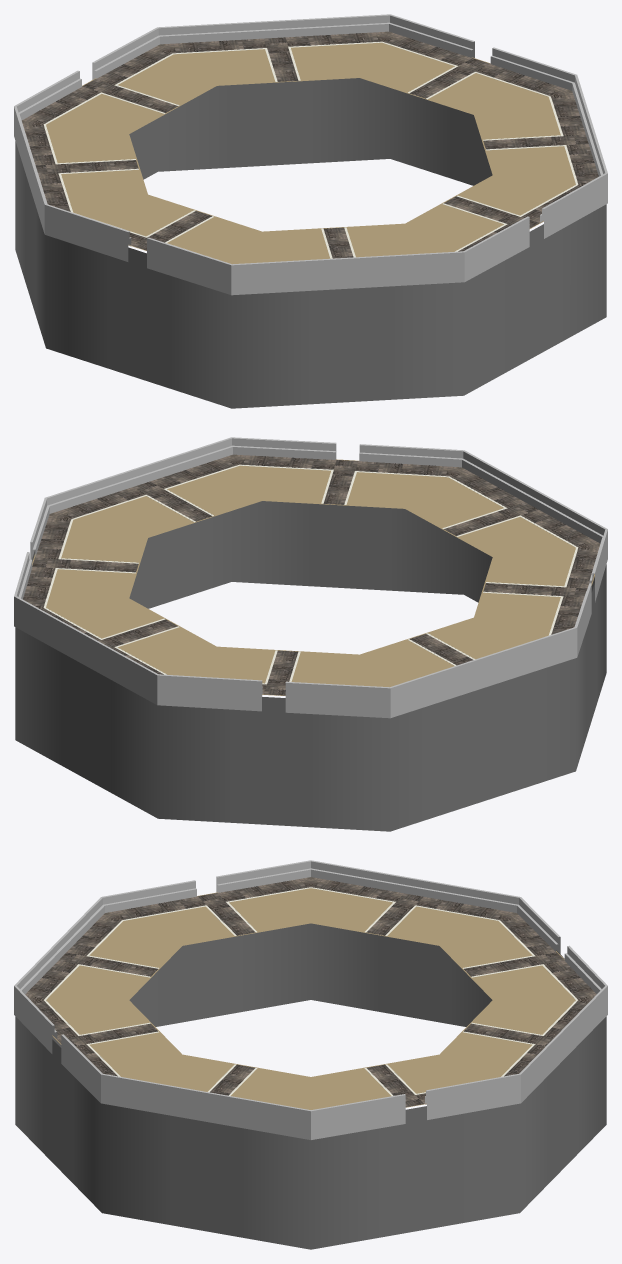
File: colo04.FBX
The picture shows the model from 3 angles, top to bottom: view 1: azimuth 30°, elevation 25°; view 2: azimuth 150°, elevation 25°; view 3: azimuth 270°, elevation 25°; orthographic projection. The views are drawn at different scales.
Visible parts, largest first — view 1: colo04; view 2: colo04; view 3: colo04.
Boxes of the visible parts, x1,y1,x2,y2 form: colo04: (14, 14, 607, 408); colo04: (14, 437, 607, 831); colo04: (14, 860, 607, 1249).
Bounding box in the file's own units: 25998 × 6718 × 25998.
